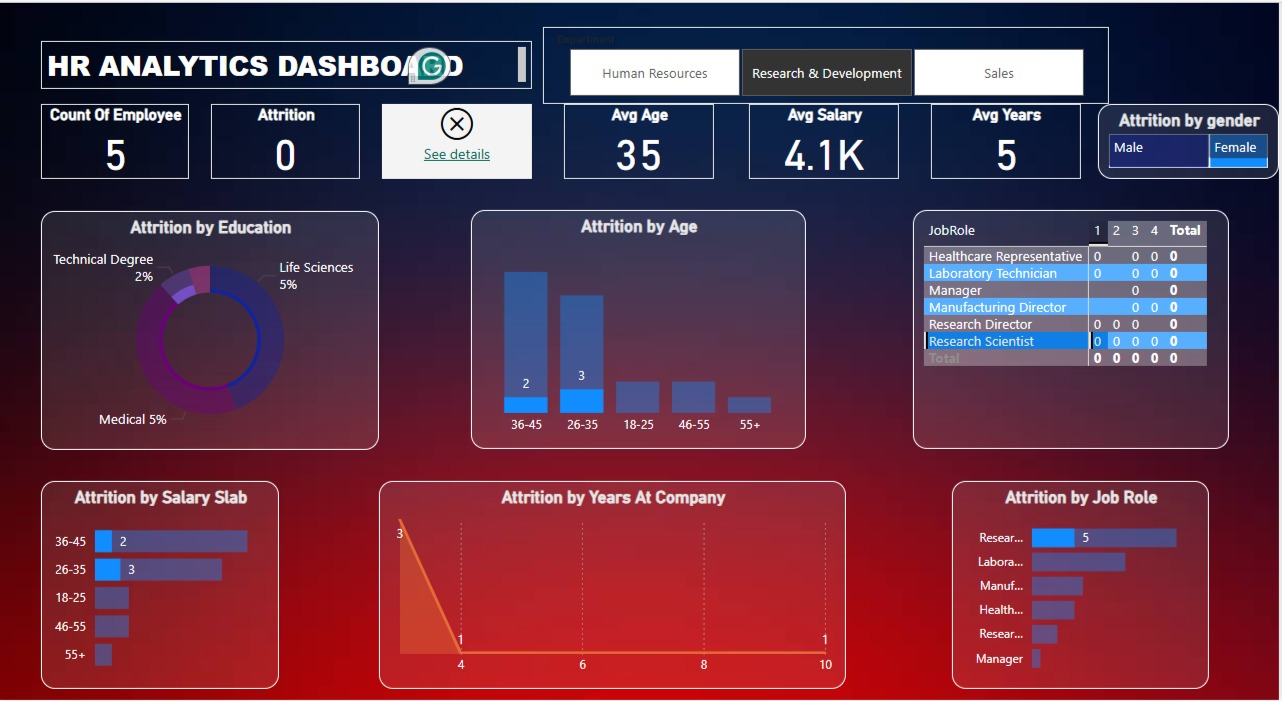

What the dashboard file says about the page in this screenshot:
{"tool":"powerbi","page":{"name":"Page 1","canvas":[1280,720],"ordinal":0},"visuals":[{"type":"card","title":"Count Of Employee","fields":{"Values":["CountNonNull(HR_Analytics.EmpID)"]},"box":[42.3,124,148.2,74.6],"z":0},{"type":"card","title":"Attrition","fields":{"Values":["Min(HR_Analytics.AttritiOnCount)"]},"box":[211.7,124,149.2,74.6],"z":1000},{"type":"card","title":"Avg Age","fields":{"Values":["Avg(HR_Analytics.Age)"]},"box":[565.4,124,149.2,74.6],"z":2000},{"type":"card","title":"Count Of Employee","fields":{"Values":["HR_Analytics.AttritionRate"]},"box":[383,124,150.2,74.6],"z":3000},{"type":"card","title":"Avg Years","fields":{"Values":["Avg(HR_Analytics.YearsAtCompany)"]},"box":[932.3,124,150.2,74.6],"z":4000},{"type":"card","title":"Avg Salary","fields":{"Values":["Avg(HR_Analytics.MonthlyIncome)"]},"box":[749.9,124,150.2,74.6],"z":5000},{"type":"donutChart","title":"Attrition by Education","fields":{"Category":["HR_Analytics.EducationField"],"Y":["CountNonNull(HR_Analytics.AttritiOnCount)"]},"box":[42.3,230.8,337.6,238.9],"z":6000},{"type":"columnChart","title":"Attrition by Age","fields":{"Category":["HR_Analytics.AgeGroup"],"Y":["CountNonNull(HR_Analytics.AttritiOnCount)"]},"box":[472,230,335,239],"z":7000},{"type":"pivotTable","fields":{"Rows":["HR_Analytics.JobRole"],"Columns":["HR_Analytics.JobSatisfaction"],"Values":["Min(HR_Analytics.AttritiOnCount)"]},"box":[914,230,316,239],"z":8000},{"type":"barChart","title":"Attrition by Salary Slab","fields":{"Category":["HR_Analytics.AgeGroup"],"Y":["CountNonNull(HR_Analytics.AttritiOnCount)"]},"box":[42.3,500.9,237.9,207.6],"z":9000},{"type":"barChart","title":"Attrition by Job Role","fields":{"Category":["HR_Analytics.JobRole"],"Y":["CountNonNull(HR_Analytics.AttritiOnCount)"]},"box":[953,501,257,208],"z":10000},{"type":"areaChart","title":"Attrition by Years At Company","fields":{"Category":["HR_Analytics.YearsAtCompany"],"Y":["CountNonNull(HR_Analytics.AttritiOnCount)"]},"box":[380,500.9,466.6,207.6],"z":11000},{"type":"treemap","title":"Attrition by gender","fields":{"Group":["HR_Analytics.Gender"],"Values":["CountNonNull(HR_Analytics.AttritiOnCount)"]},"box":[1098.6,124,181.4,74.6],"z":12000},{"type":"slicer","fields":{"Values":["HR_Analytics.Department"]},"box":[544,47,566,77],"z":13000},{"type":"textbox","box":[42.3,61.5,490.8,47.4],"z":13001}]}

Visuals, with their boxes in screenshot pixels (x1, y1, x2, y2), scaled from the page's 1280x720 canvas onto the 1282x701 screenshot:
"Count Of Employee" card: (x1=42, y1=121, x2=191, y2=193)
"Attrition" card: (x1=212, y1=121, x2=361, y2=193)
"Avg Age" card: (x1=566, y1=121, x2=716, y2=193)
"Count Of Employee" card: (x1=384, y1=121, x2=534, y2=193)
"Avg Years" card: (x1=934, y1=121, x2=1084, y2=193)
"Avg Salary" card: (x1=751, y1=121, x2=902, y2=193)
"Attrition by Education" donutChart: (x1=42, y1=225, x2=380, y2=457)
"Attrition by Age" columnChart: (x1=473, y1=224, x2=808, y2=457)
pivotTable - HR_Analytics.JobRole x HR_Analytics.JobSatisfaction: (x1=915, y1=224, x2=1232, y2=457)
"Attrition by Salary Slab" barChart: (x1=42, y1=488, x2=281, y2=690)
"Attrition by Job Role" barChart: (x1=954, y1=488, x2=1212, y2=690)
"Attrition by Years At Company" areaChart: (x1=381, y1=488, x2=848, y2=690)
"Attrition by gender" treemap: (x1=1100, y1=121, x2=1281, y2=193)
slicer - HR_Analytics.Department: (x1=545, y1=46, x2=1112, y2=121)
textbox: (x1=42, y1=60, x2=534, y2=106)
